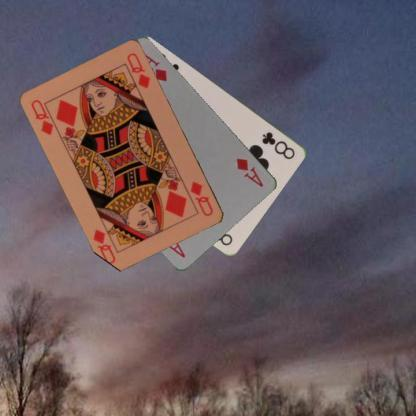8c: (259, 128, 297, 160)
Ad: (234, 154, 265, 188)
Qd: (28, 96, 62, 137), (188, 178, 215, 218)
